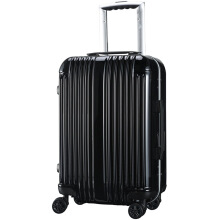luggage: (53, 0, 167, 219)
